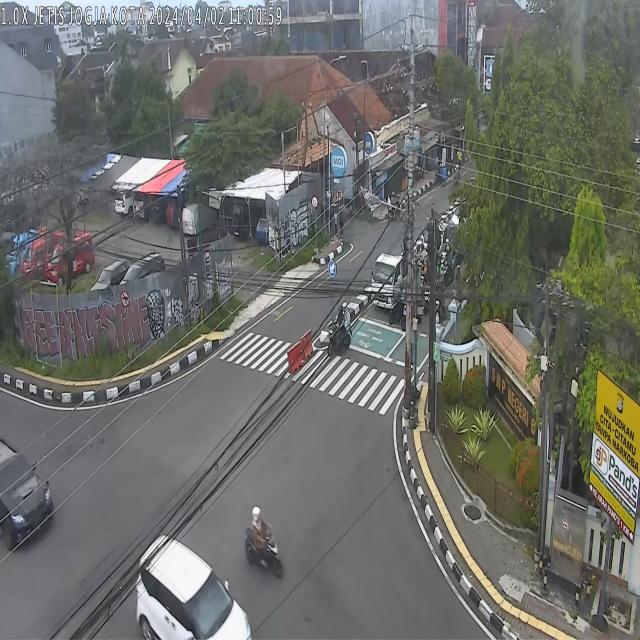car: (135, 532, 251, 640), (0, 435, 53, 550)
motorcycle: (245, 505, 283, 581), (327, 300, 352, 358), (389, 281, 405, 325), (440, 246, 456, 284), (423, 274, 430, 315)
truck: (371, 252, 407, 310)
